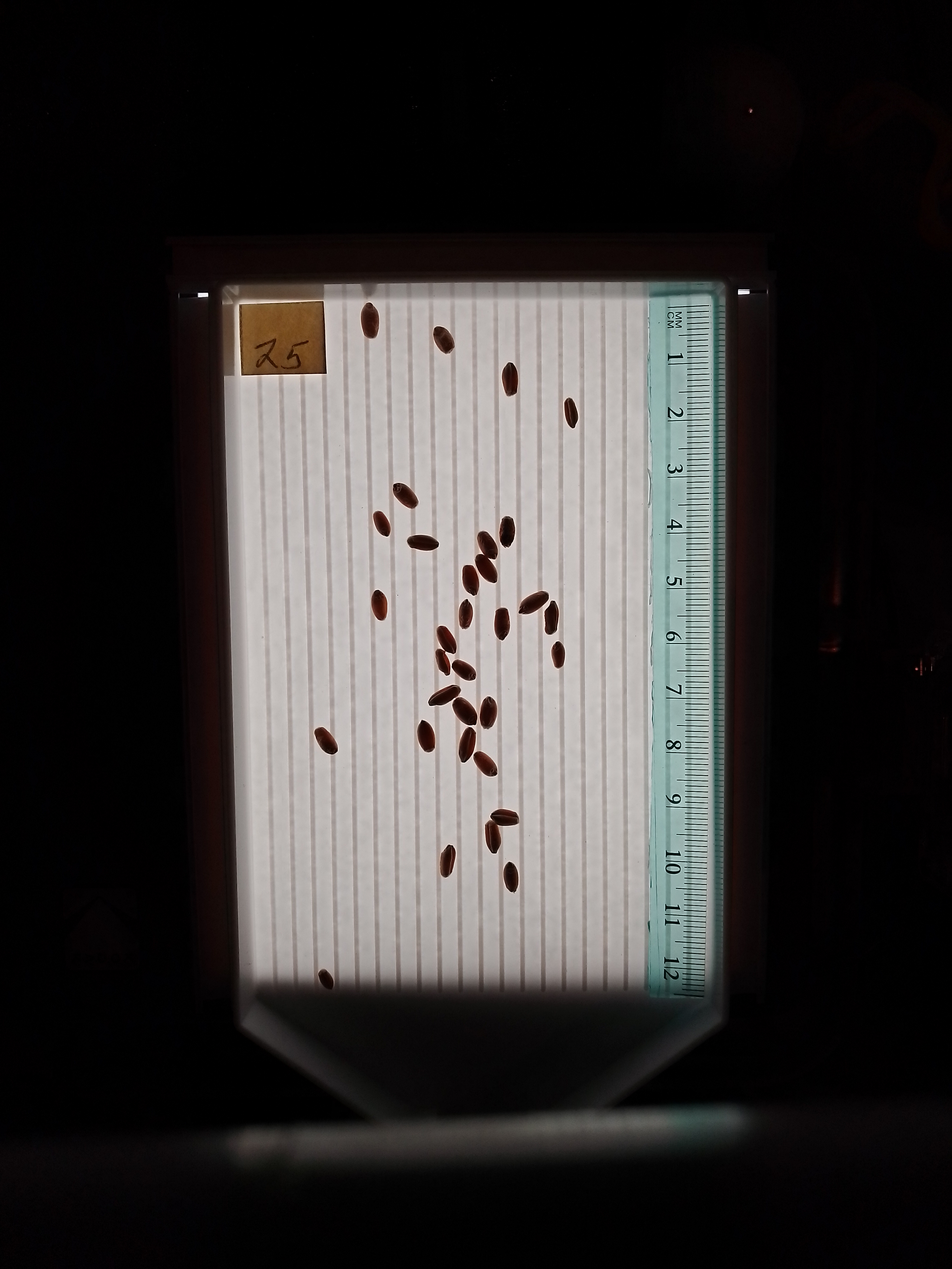seed mask: (360, 303, 380, 338), (428, 685, 460, 706), (314, 727, 338, 754), (453, 699, 477, 726), (519, 592, 548, 614), (393, 483, 417, 509), (474, 752, 498, 777), (476, 555, 497, 583), (477, 531, 498, 559), (417, 721, 435, 753), (502, 363, 519, 396), (480, 697, 498, 728), (437, 626, 457, 653), (459, 729, 475, 762), (433, 328, 454, 353), (485, 821, 501, 853), (462, 565, 479, 595), (491, 809, 519, 827), (453, 660, 476, 681), (544, 602, 559, 634), (499, 517, 515, 547), (408, 535, 438, 551), (440, 846, 455, 877), (495, 608, 510, 639), (372, 591, 387, 621), (373, 511, 391, 536), (504, 863, 519, 892), (459, 600, 473, 629), (565, 398, 579, 427), (435, 650, 450, 674), (551, 643, 565, 668), (319, 970, 334, 989)
